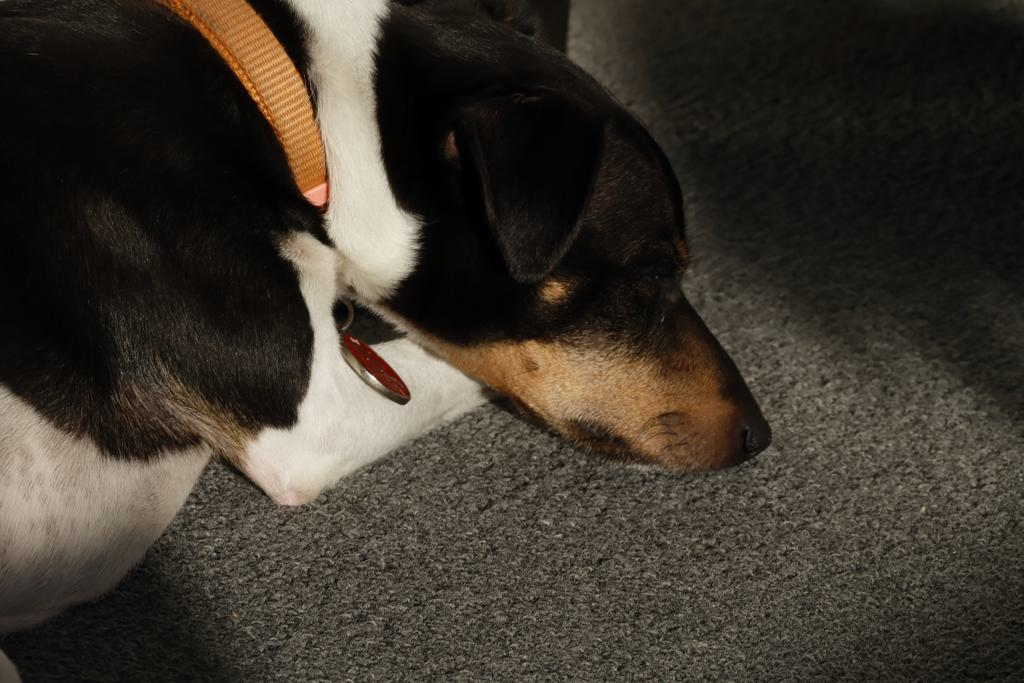Dog: (0, 0, 780, 683)
